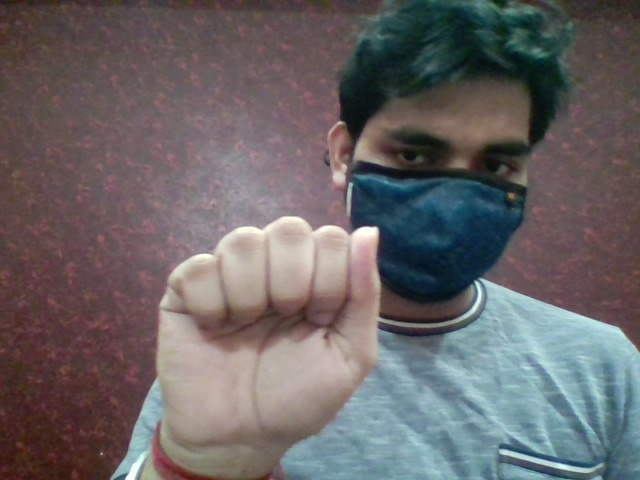a: (147, 217, 401, 450)
